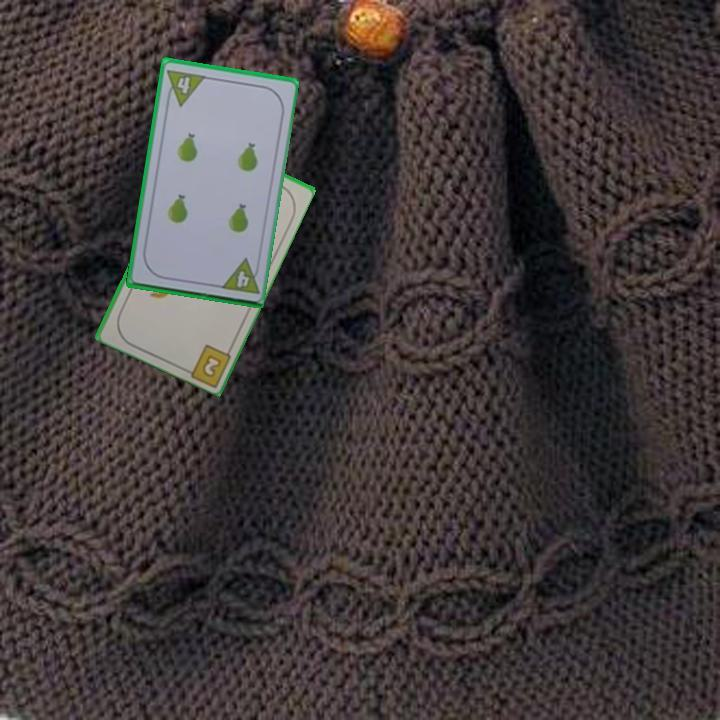2b: (198, 351, 224, 380)
4p: (162, 66, 208, 109), (216, 255, 263, 297)
